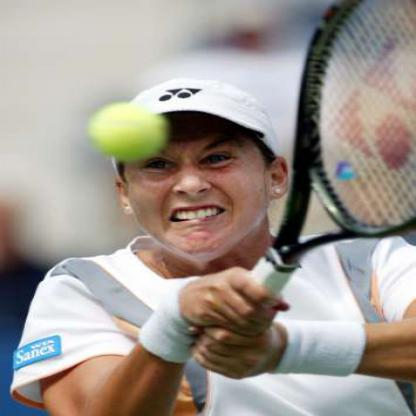face: (120, 84, 272, 261)
